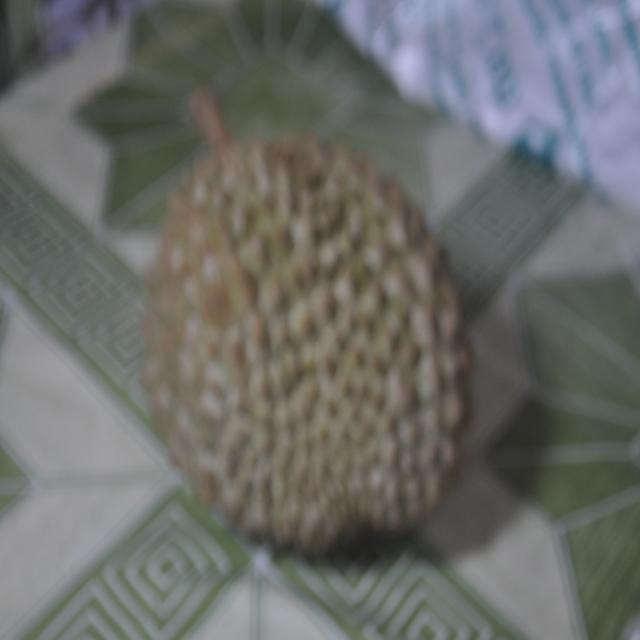mature: (143, 91, 470, 555)
